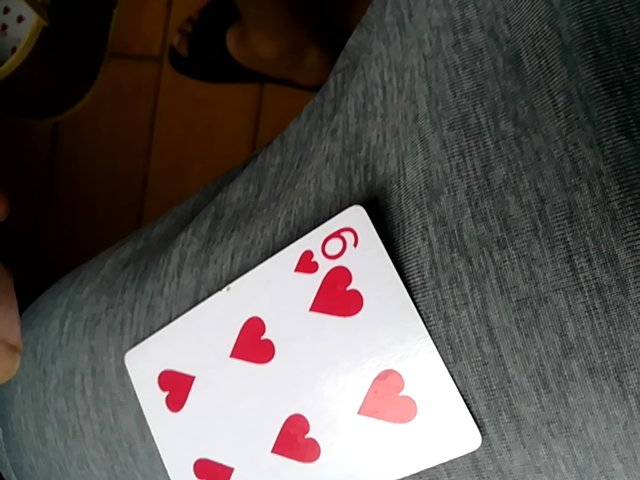hx 6: (126, 196, 486, 479)
